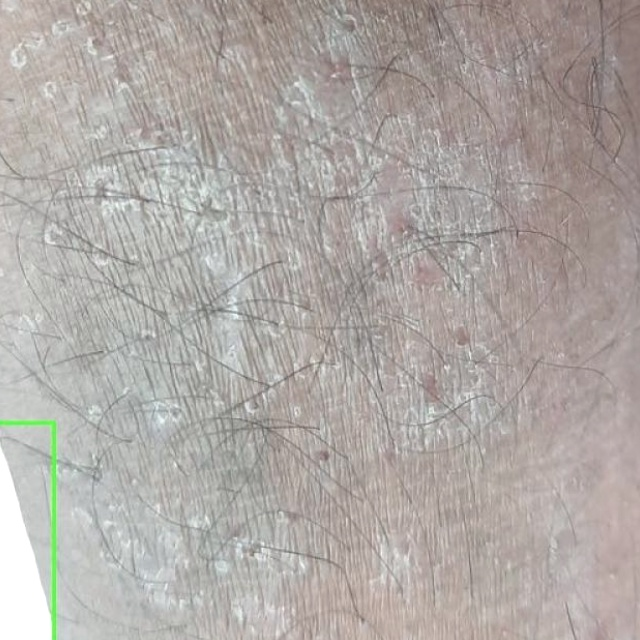Contact Dermatitis: (0, 422, 54, 639)
